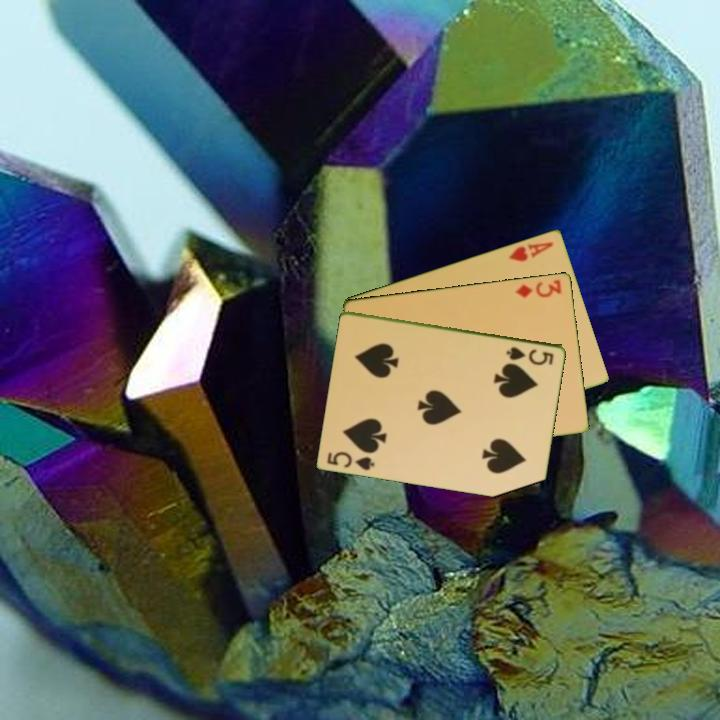3d: (512, 276, 564, 300)
5s: (503, 343, 557, 368), (324, 448, 378, 473)
Ah: (505, 238, 556, 264)
